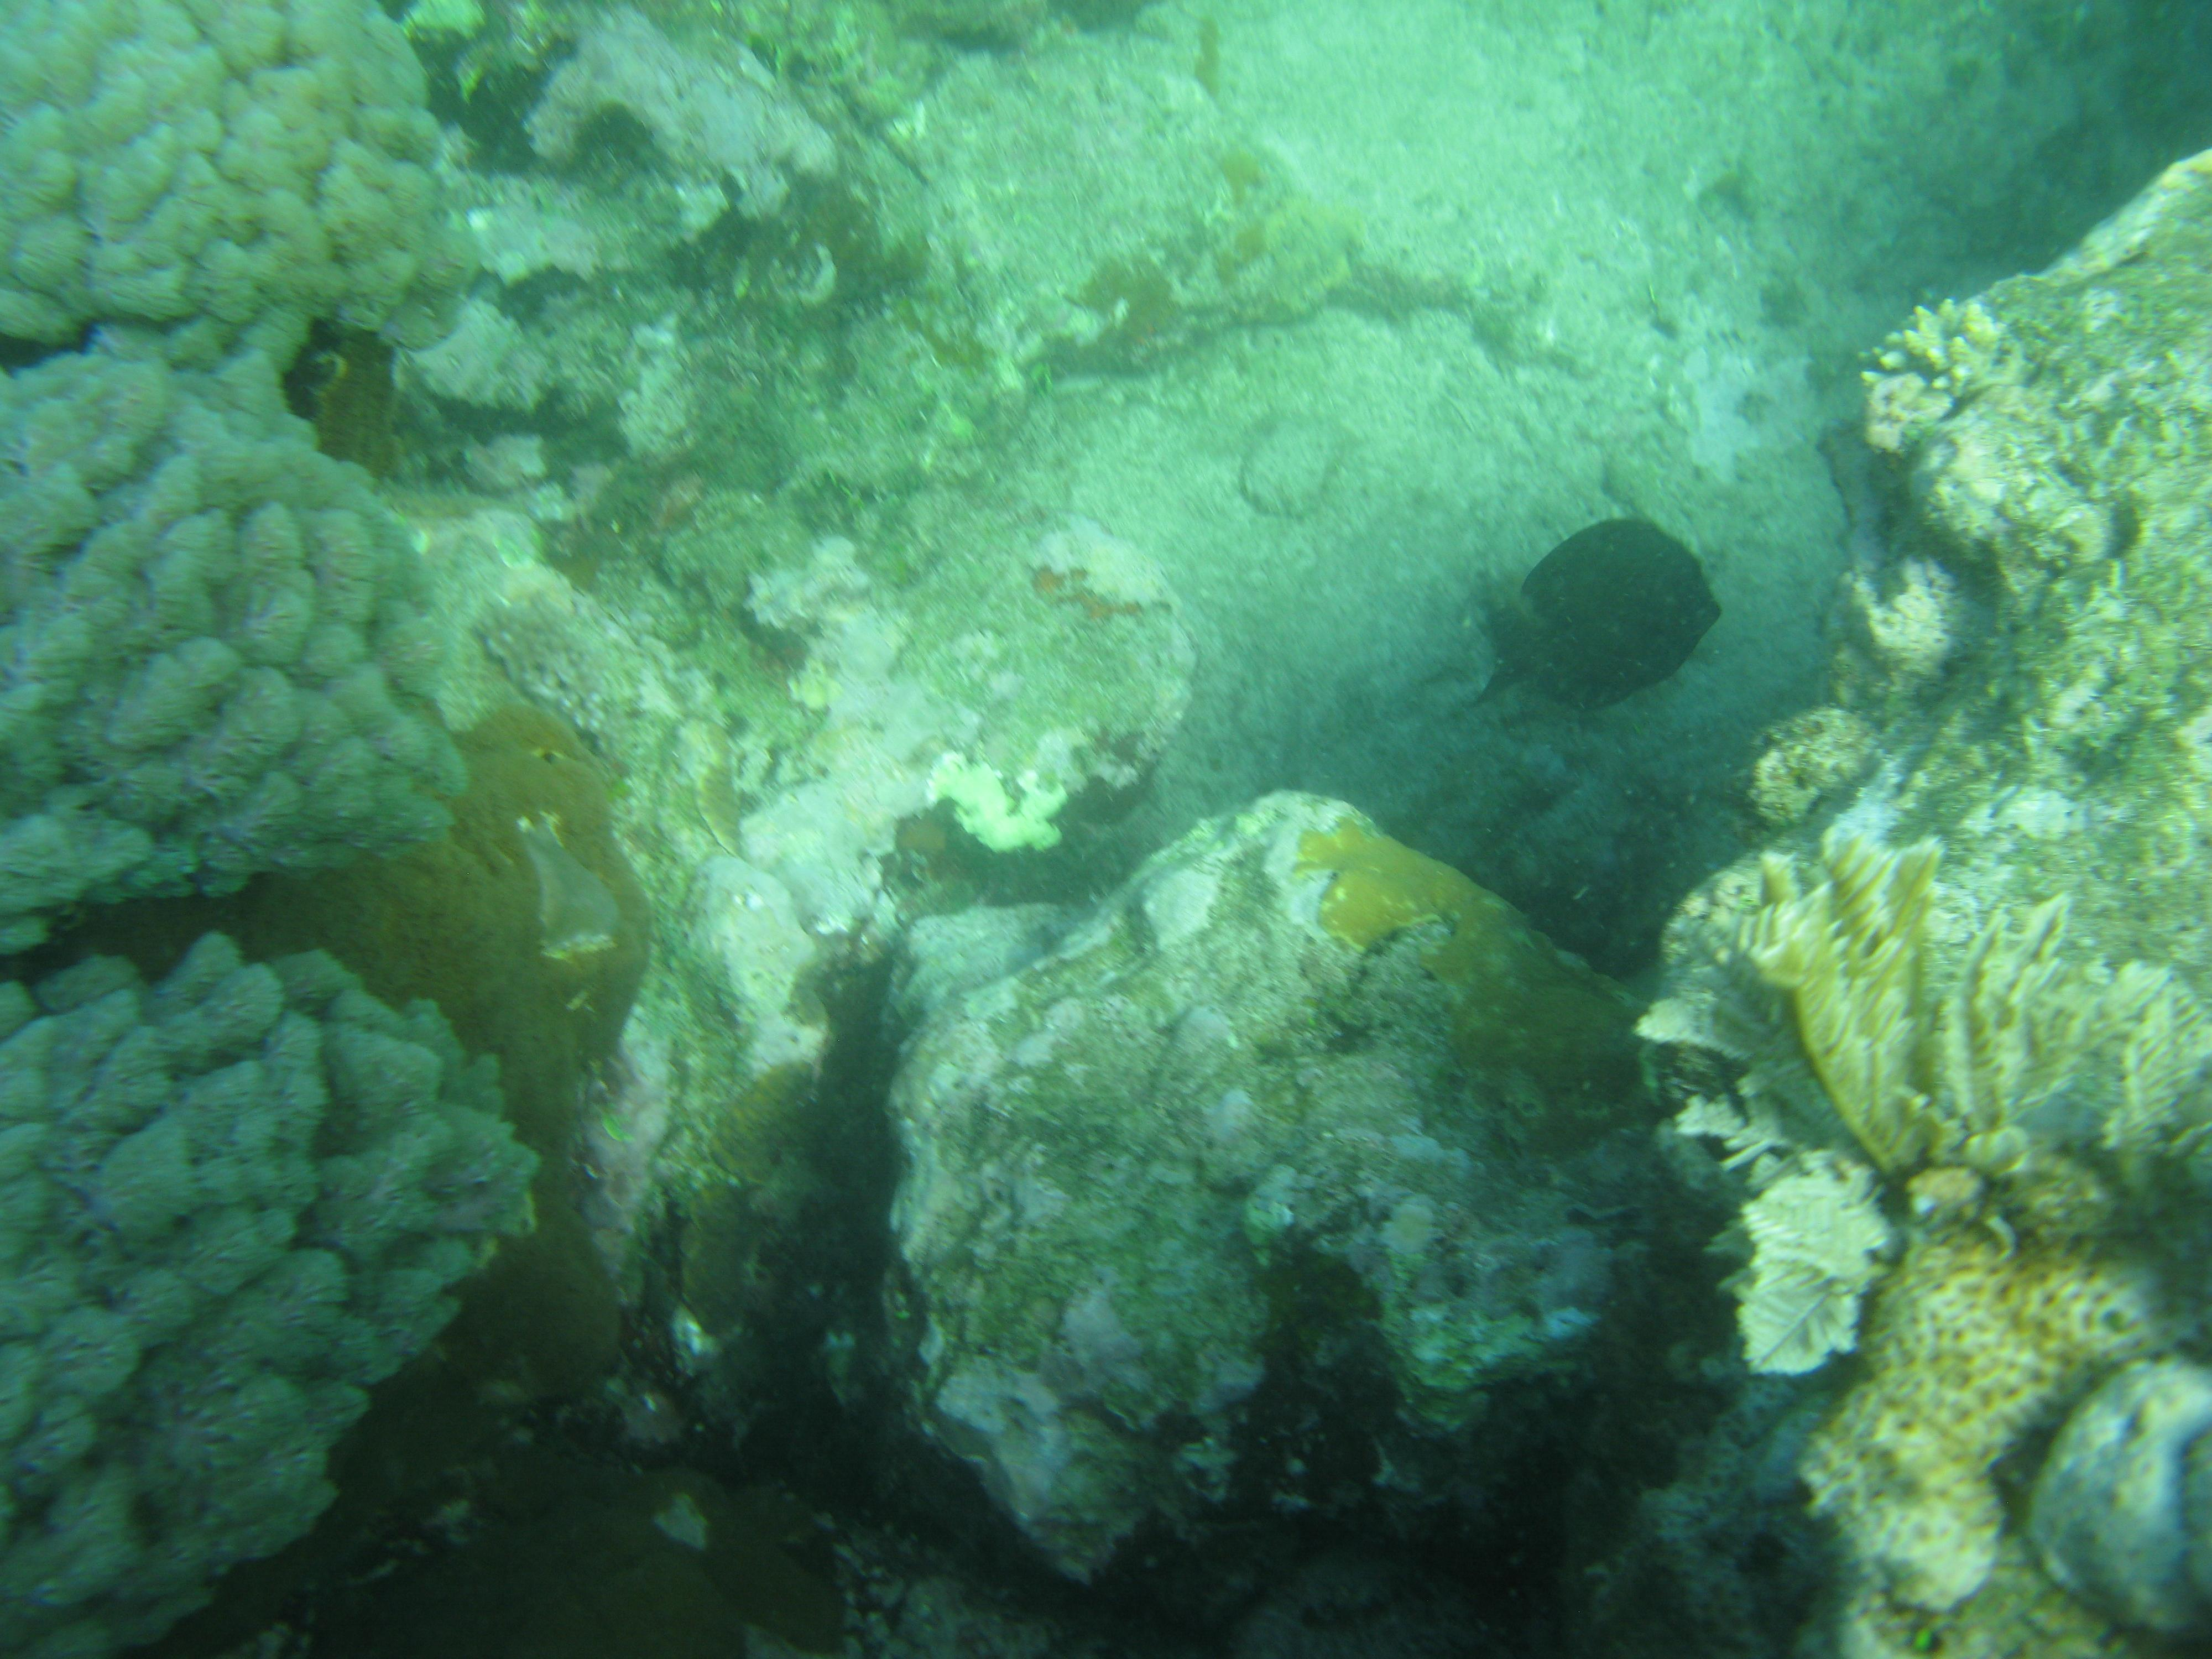Fish: (1343, 479, 1791, 737)
